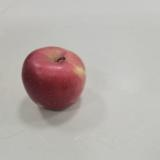apple: (22, 47, 87, 111)
